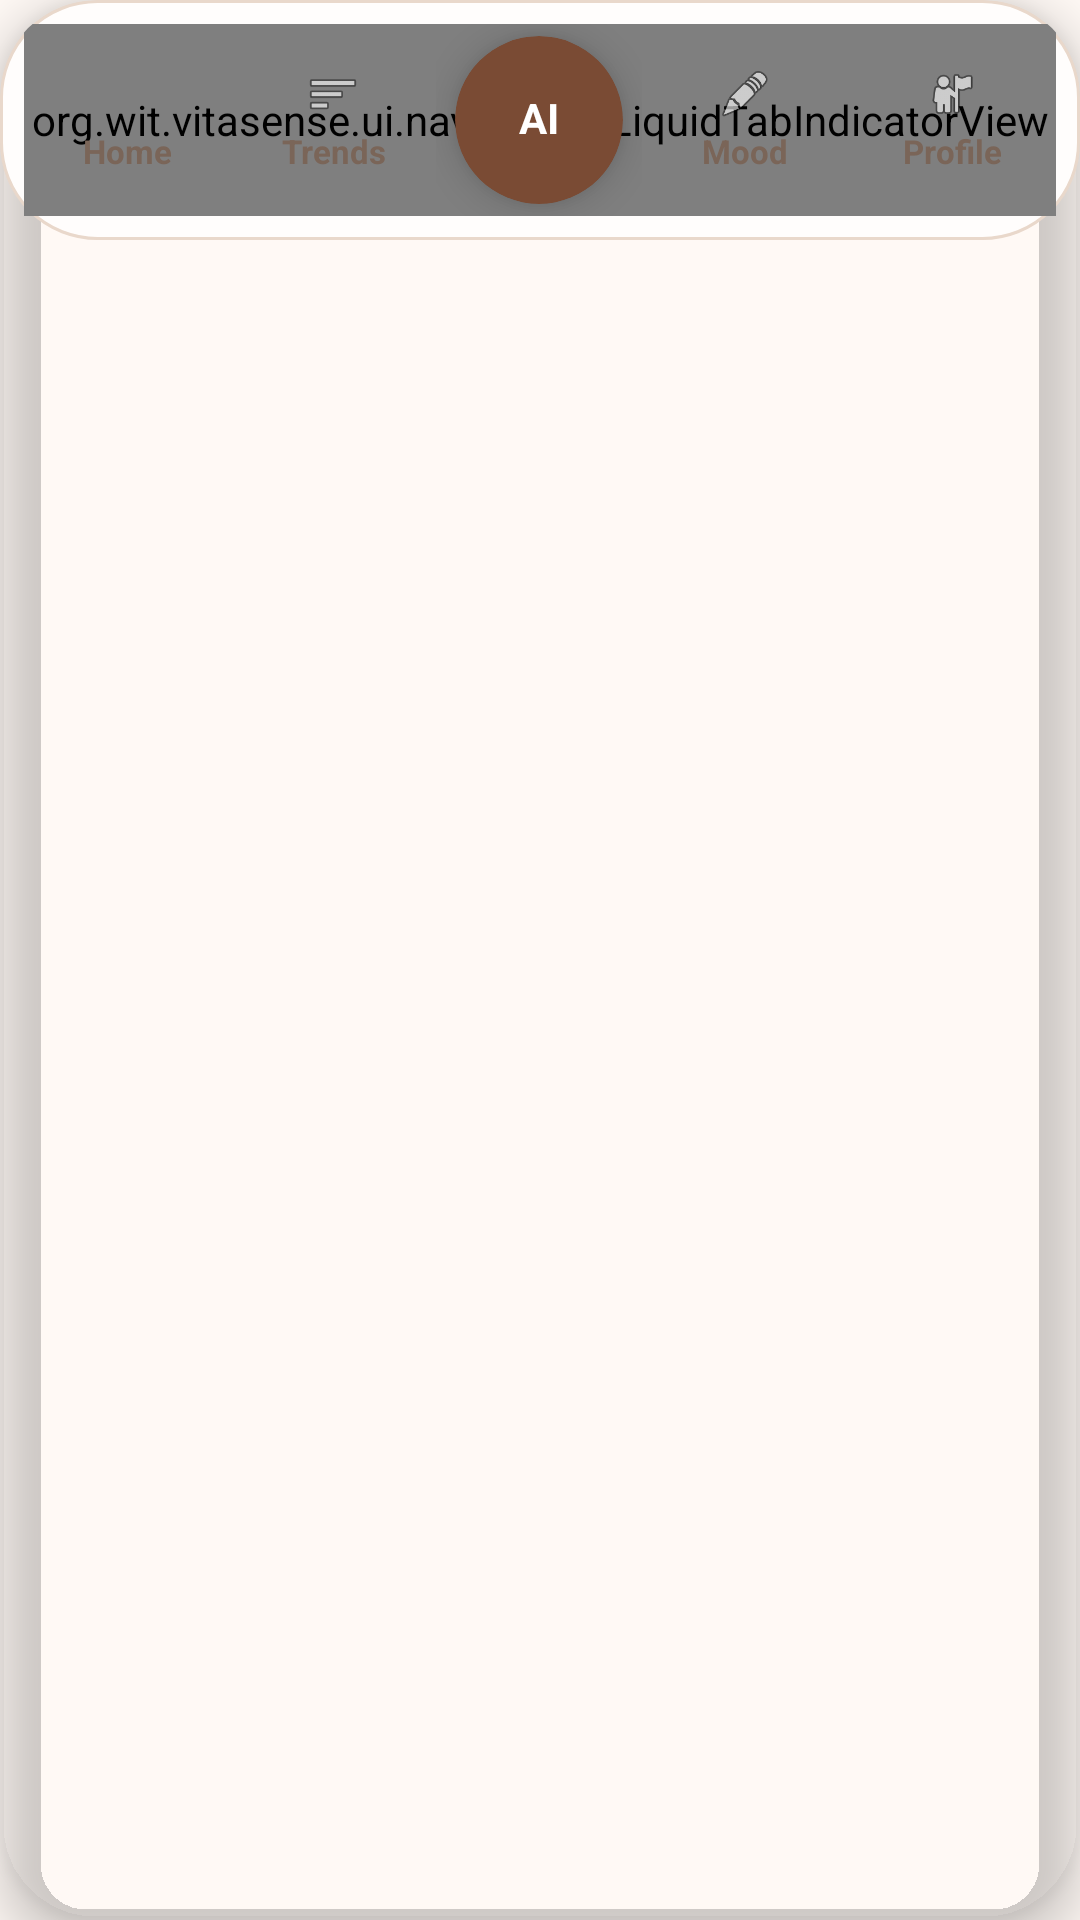

Screen size 1080×1920. Icon name, then its center in pixels as [x,y]:
edit: [743,96]
myplaces: [952,97]
sort by size: [333,94]
